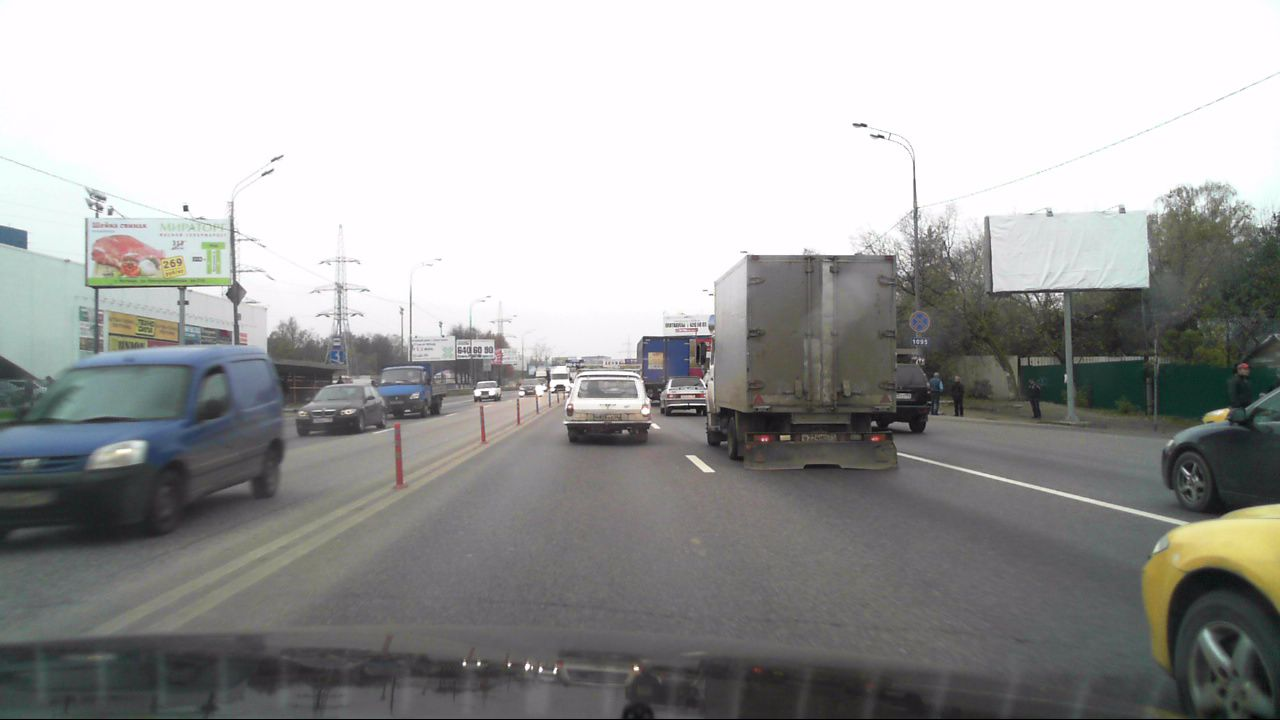No Parking: (910, 309, 930, 333)
